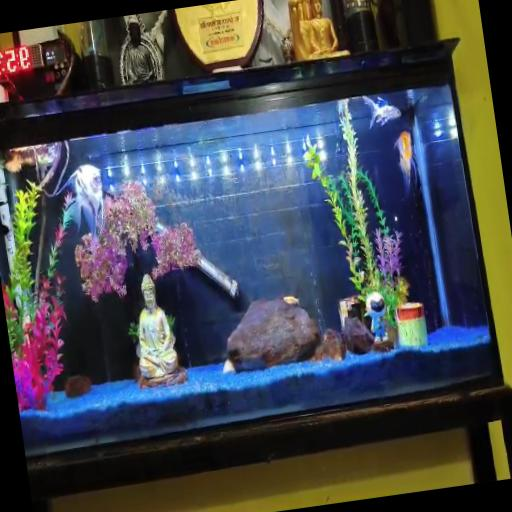Fish: (59, 165, 104, 241), (394, 132, 416, 193), (362, 96, 400, 128), (283, 296, 298, 306)
